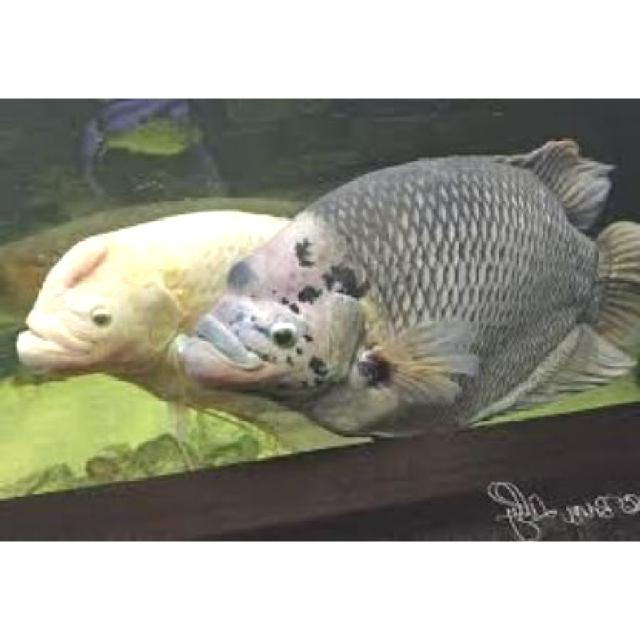gurame: (180, 138, 638, 440), (17, 213, 276, 390)
